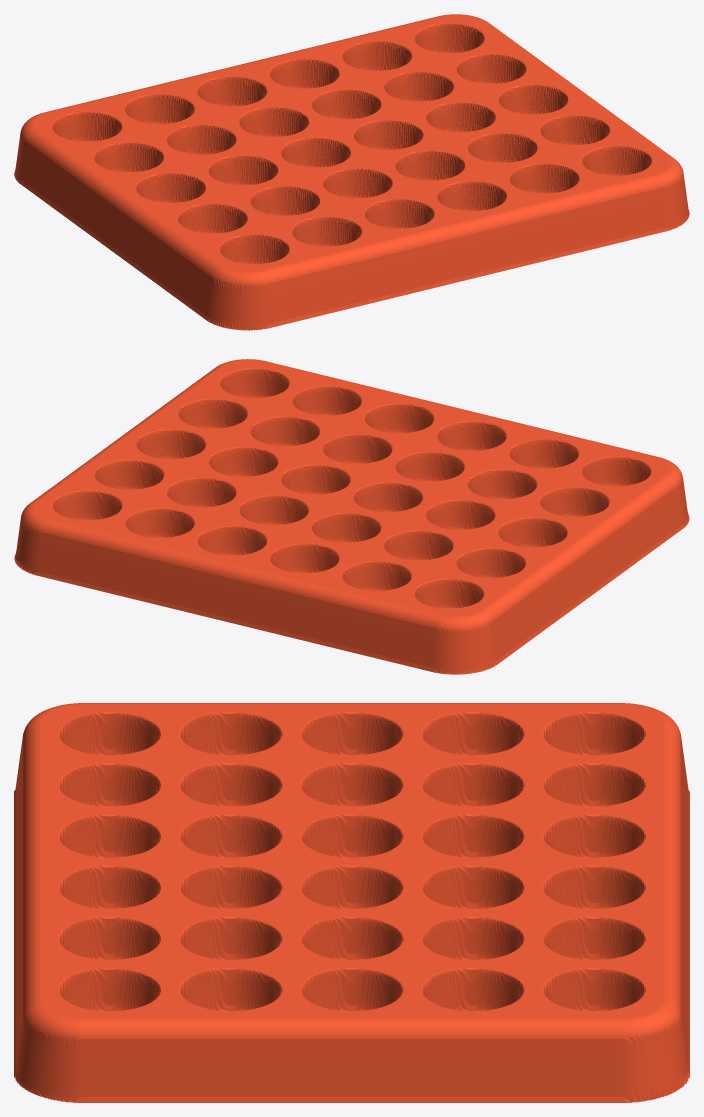
File: mold.glb
3 renders of one model, top to bottom at view 1: azimuth 30°, elevation 25°; view 2: azimuth 150°, elevation 25°; view 3: azimuth 270°, elevation 25°, orthographic. The views are drawn at different scales.
Visible parts, largest first — view 1: geometry_0; view 2: geometry_0; view 3: geometry_0.
Part boxes in pixels (box(x1,y1,x2,y2)): geometry_0: box(14, 14, 689, 330); geometry_0: box(14, 359, 689, 674); geometry_0: box(14, 703, 689, 1102).
Size of the model in its own units: 0.104 by 0.0105 by 0.0882.
